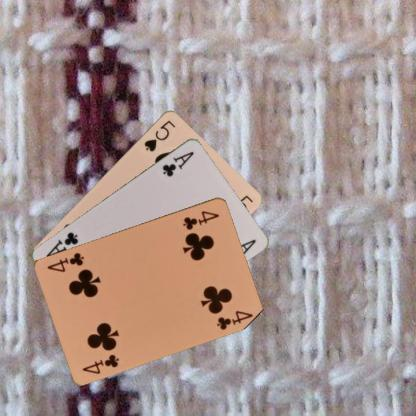4c: (80, 351, 121, 376), (180, 208, 221, 231)
5s: (141, 116, 176, 152)
Ac: (160, 148, 196, 178)
